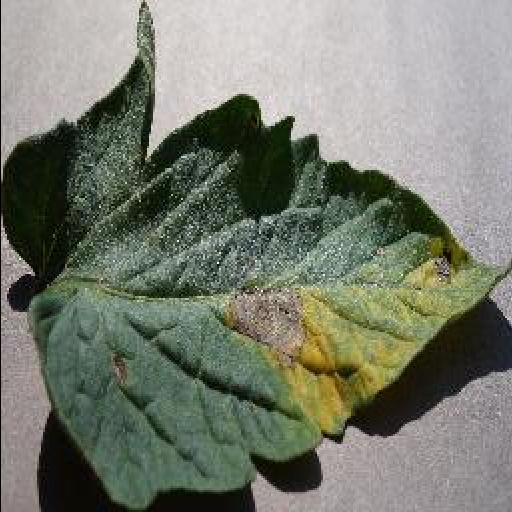disease_tomato: (0, 8, 510, 505)
